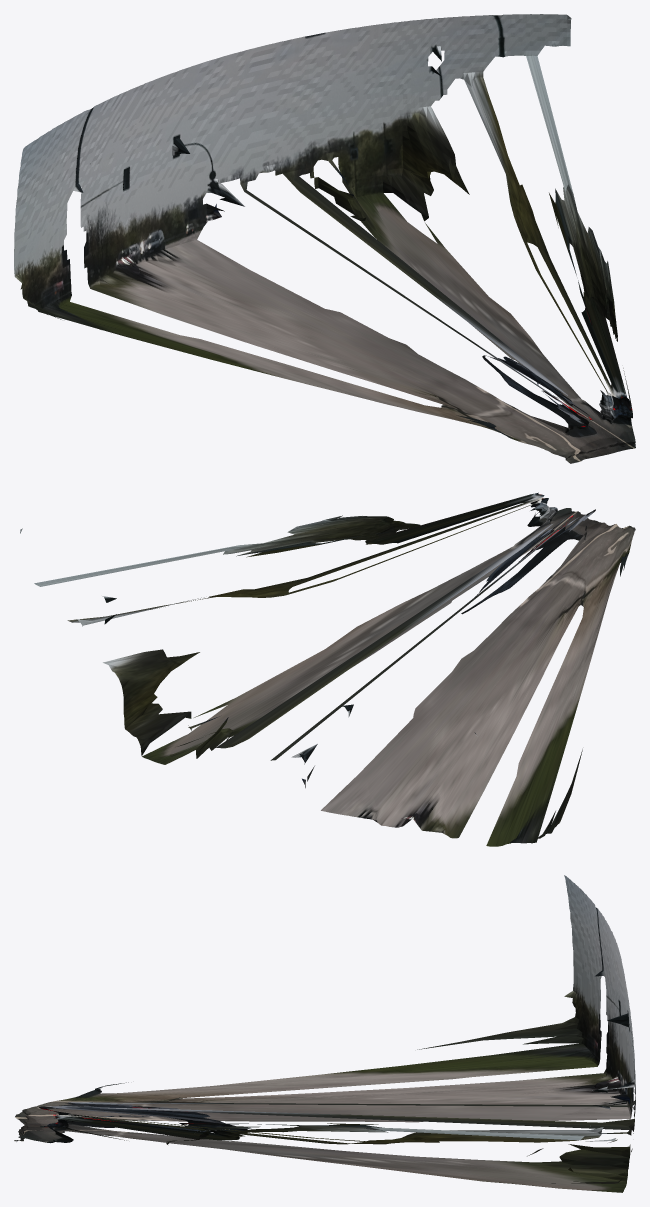
3 renders of one model, top to bottom at view 1: azimuth 30°, elevation 25°; view 2: azimuth 150°, elevation 25°; view 3: azimuth 270°, elevation 25°, orthographic. The views are drawn at different scales.
Visible parts, largest first — view 1: defaultobject; view 2: defaultobject; view 3: defaultobject.
Boxes of the visible parts, bbox=[...] form: defaultobject: bbox=[14, 14, 635, 463]; defaultobject: bbox=[20, 492, 635, 846]; defaultobject: bbox=[14, 875, 635, 1192].
Size of the model in its own units: 40.98 by 13.75 by 44.62.
Materials: 1 (1 with a texture image).
